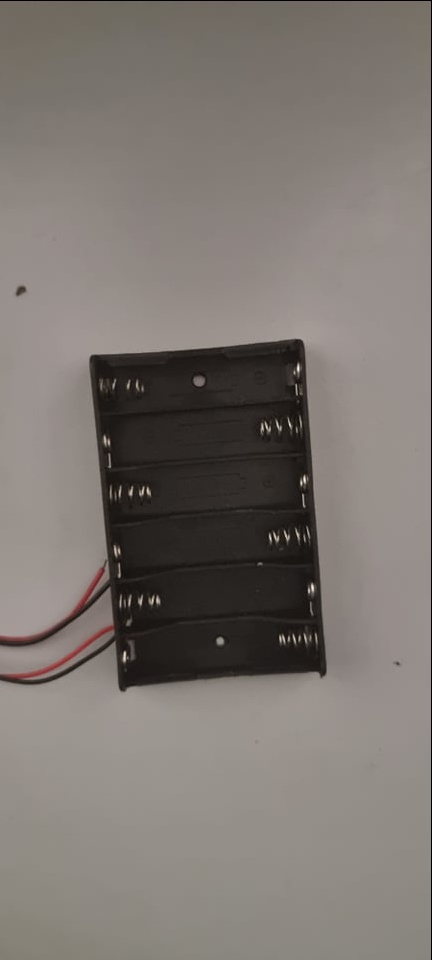BATTERY BOX: (75, 337, 327, 696)
